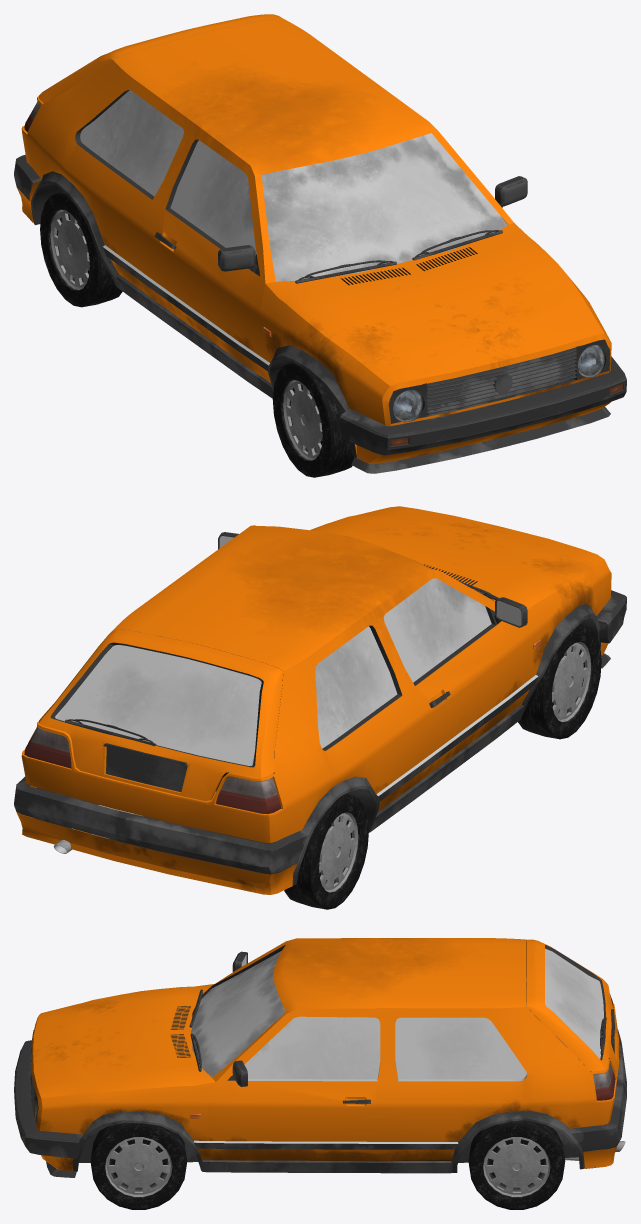
Rendered from vw-golf.glb.
The picture shows the model from 3 angles, top to bottom: view 1: azimuth 30°, elevation 25°; view 2: azimuth 150°, elevation 25°; view 3: azimuth 270°, elevation 25°; orthographic projection. The views are drawn at different scales.
Visible parts, largest first — view 1: Object_6, Object_9, Object_7, Object_11, Object_10, Object_3, Object_4; view 2: Object_6, Object_9, Object_7, Object_11, Object_10, Object_3, Object_4, Object_5; view 3: Object_6, Object_9, Object_7, Object_11, Object_10, Object_4, Object_3, Object_2.
Part boxes in pixels (x1,y1,x2,y2): Object_6: (16,14,611,464); Object_9: (80,22,507,281); Object_7: (14,90,626,473); Object_11: (40,191,354,477); Object_10: (50,209,322,460); Object_3: (24,102,622,445); Object_4: (103,245,269,365); Object_6: (16,506,611,894); Object_9: (55,578,491,765); Object_7: (14,532,626,885); Object_11: (284,623,601,909); Object_10: (319,641,590,892); Object_3: (24,640,540,814); Object_4: (53,675,538,853); Object_5: (219,536,521,625); Object_6: (31,938,618,1170); Object_9: (192,948,603,1079); Object_7: (14,945,626,1177); Object_11: (90,1120,565,1209); Object_10: (105,1137,550,1196); Object_4: (193,1061,625,1160); Object_3: (22,993,615,1140); Object_2: (191,942,584,1065).
Bounding box in the file's own units: 2.94 × 2.13 × 6.25.
Materials: 10 (9 with a texture image).
